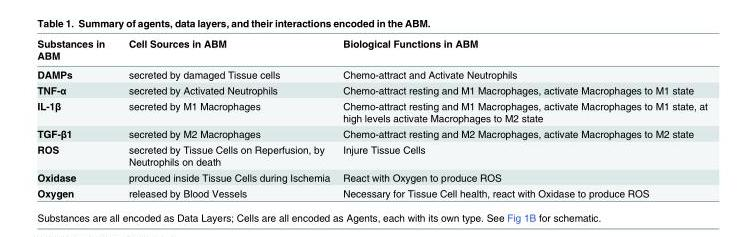table: (36, 37, 706, 198)
table column: (335, 37, 706, 198), (116, 37, 335, 198), (36, 37, 116, 198)
table column header: (36, 37, 706, 64)
table row: (36, 97, 706, 125), (36, 37, 706, 64), (36, 141, 706, 168), (36, 64, 706, 81), (36, 81, 706, 97), (36, 125, 706, 141), (36, 168, 706, 184), (36, 184, 706, 198)
